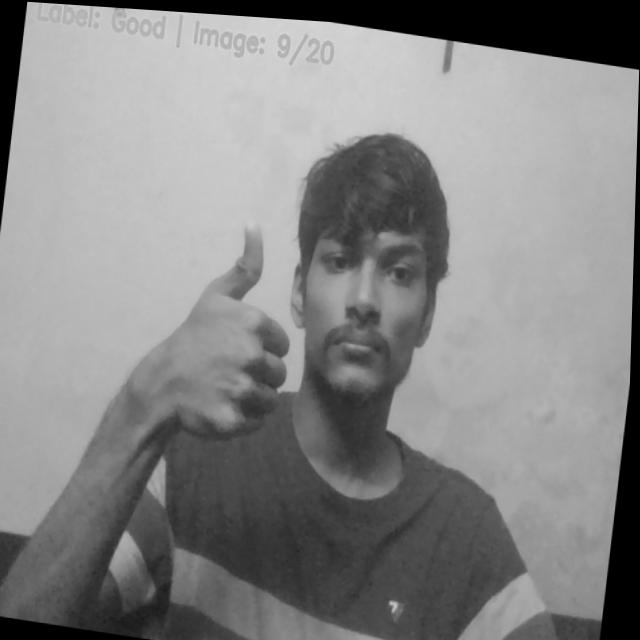Good: (152, 197, 306, 458)
